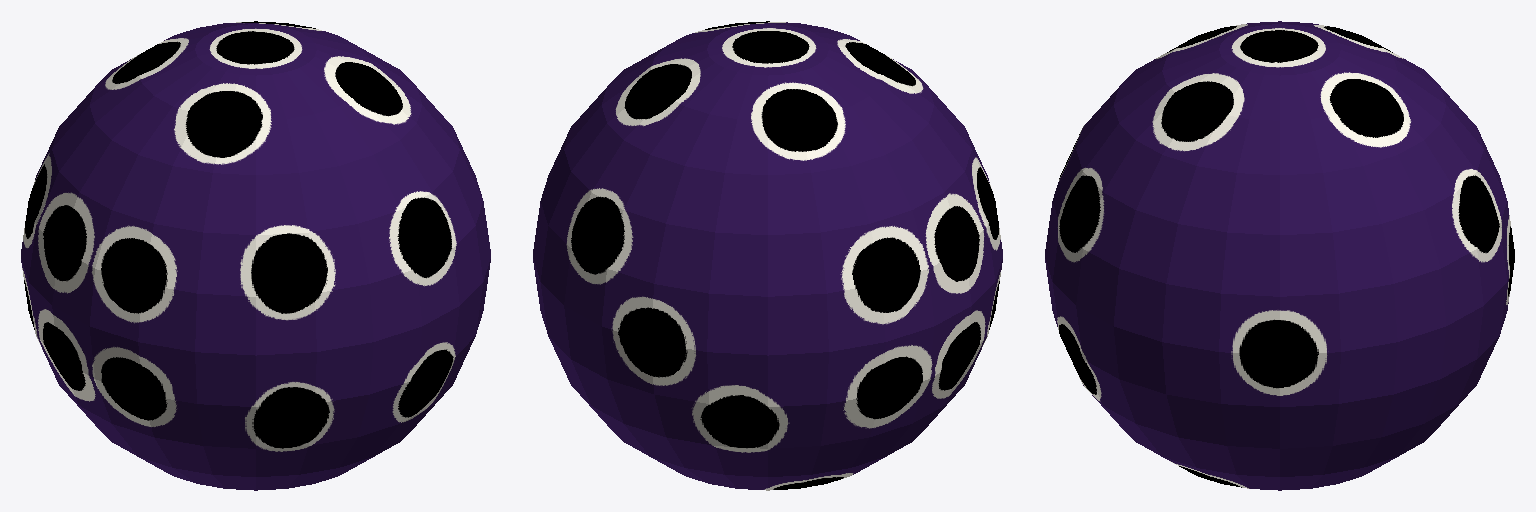
3 renders of one model, left to right at view 1: azimuth 30°, elevation 25°; view 2: azimuth 150°, elevation 25°; view 3: azimuth 270°, elevation 25°, orthographic.
Parts seen in each view (by area): view 1: Sphere_None; view 2: Sphere_None; view 3: Sphere_None.
Part boxes in pixels (left/top/right/bottom): Sphere_None: left=21, top=21, right=490, bottom=490; Sphere_None: left=533, top=21, right=1002, bottom=490; Sphere_None: left=1045, top=21, right=1514, bottom=490.
Size of the model in its own units: 2 by 2 by 2.
1 materials, 1 textured.